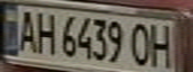3: (90, 16, 109, 62)
4: (75, 15, 93, 61)
6: (57, 11, 78, 57)
9: (106, 17, 130, 64)
A: (12, 7, 39, 54)
H: (145, 20, 178, 69), (30, 9, 57, 55)
O: (127, 19, 157, 67)
